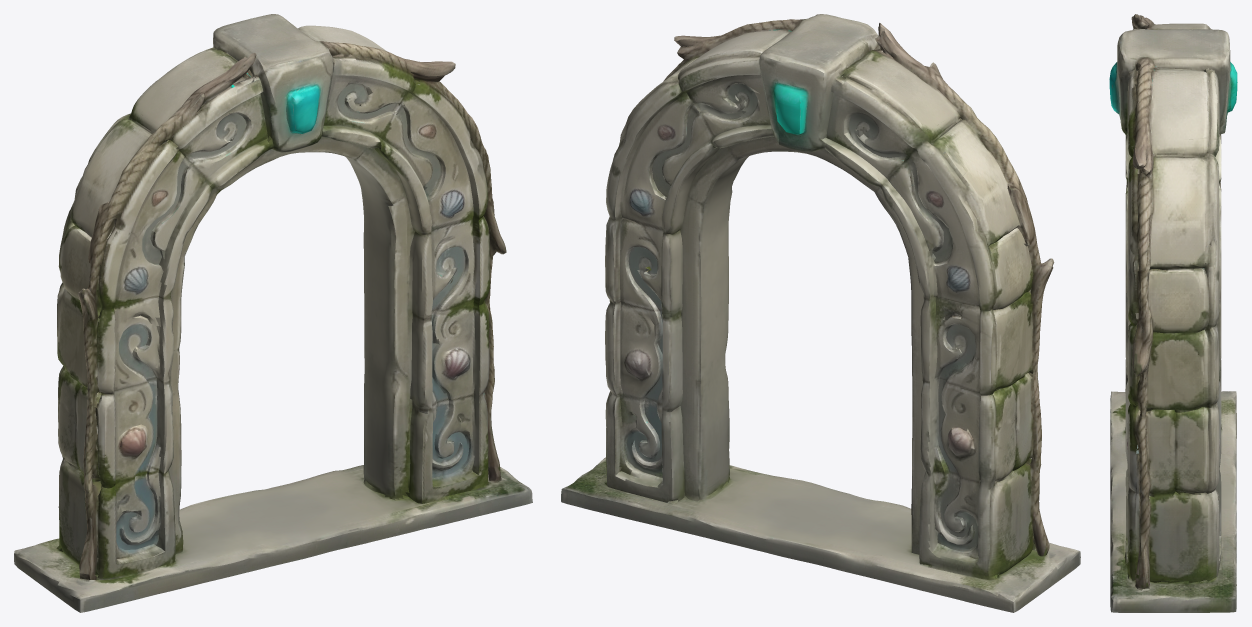
Rendered from meadows_arch_tidewake.glb.
3 views of the same model, side by side, from view 1: azimuth 30°, elevation 25°; view 2: azimuth 150°, elevation 25°; view 3: azimuth 270°, elevation 25° (orthographic). The views are drawn at different scales.
Parts seen in each view (by area): view 1: Mesh_0; view 2: Mesh_0; view 3: Mesh_0.
Boxes of the visible parts, bbox=[...] form: Mesh_0: bbox=[14, 14, 532, 612]; Mesh_0: bbox=[561, 14, 1080, 612]; Mesh_0: bbox=[1109, 14, 1237, 612].
Size of the model in its own units: 1.78 by 1.9 by 0.4619.
Materials: 1 (1 with a texture image).
